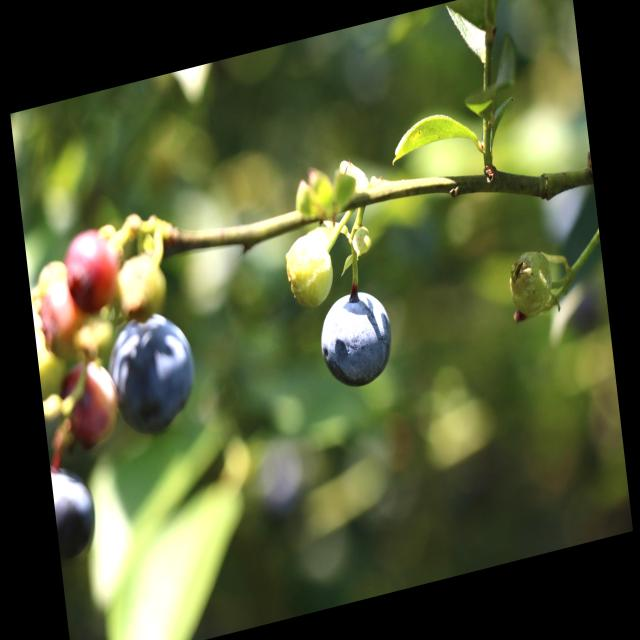blueberry: (101, 296, 204, 446), (313, 279, 396, 395), (51, 461, 104, 571)
blueberry-halfripe: (60, 362, 124, 453), (64, 228, 118, 314)
blueberry-unripe: (284, 225, 335, 313)
